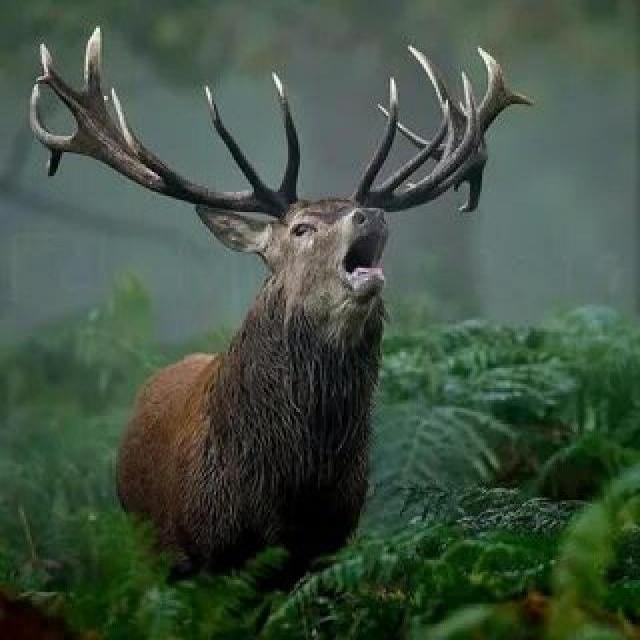deer: (114, 90, 539, 595)
